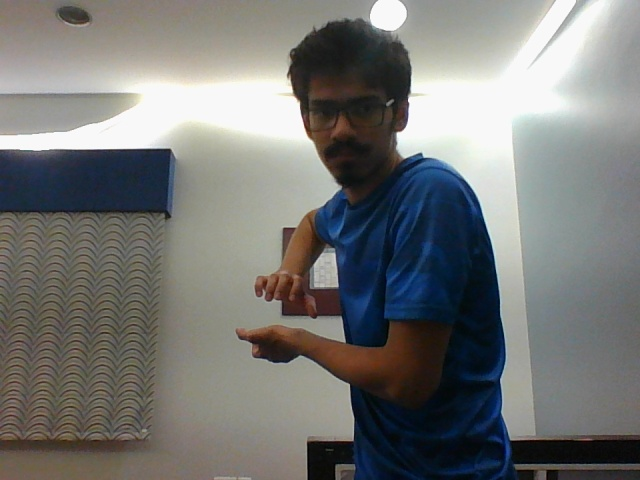charge: (232, 267, 324, 370)
